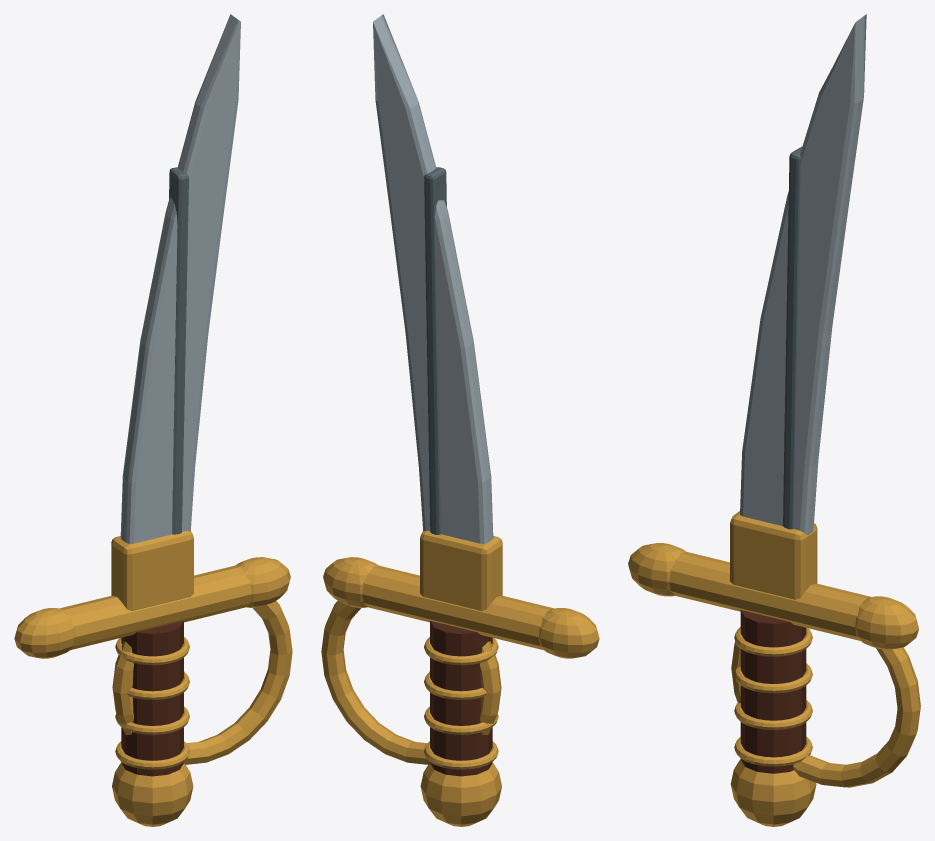
Rendered from boarding-cutlass.glb.
3 views of the same model, side by side, from view 1: azimuth 30°, elevation 25°; view 2: azimuth 150°, elevation 25°; view 3: azimuth 330°, elevation 25° (orthographic). The views are drawn at different scales.
Visible parts, largest first — view 1: Swept broad cutlass blade, Cross guard, Leather grip, Knuckle bow, Reinforced ricasso, Blade fuller groove, Pommel, Quillon R, Quillon L, Grip wire -0.08, Grip wire 0.16, Grip wire 0.0 (+1 smaller); view 2: Swept broad cutlass blade, Cross guard, Leather grip, Knuckle bow, Reinforced ricasso, Blade fuller groove, Pommel, Quillon R, Quillon L, Grip wire -0.08, Grip wire 0.16, Grip wire 0.0 (+1 smaller); view 3: Swept broad cutlass blade, Leather grip, Cross guard, Reinforced ricasso, Knuckle bow, Blade fuller groove, Pommel, Quillon L, Quillon R, Grip wire 0.16, Grip wire -0.08, Grip wire 0.08 (+1 smaller).
Part boxes in pixels (x1,y1,x2,y2): Swept broad cutlass blade: [120, 14, 240, 543]; Cross guard: [59, 565, 251, 649]; Leather grip: [121, 621, 183, 776]; Knuckle bow: [112, 601, 292, 764]; Reinforced ricasso: [111, 531, 193, 610]; Blade fuller groove: [169, 167, 188, 534]; Pommel: [112, 763, 193, 826]; Quillon R: [14, 608, 74, 658]; Quillon L: [236, 557, 290, 607]; Grip wire -0.08: [115, 741, 189, 769]; Grip wire 0.16: [115, 637, 189, 665]; Grip wire 0.0: [115, 706, 189, 734]; Swept broad cutlass blade: [373, 14, 493, 543]; Cross guard: [362, 565, 554, 649]; Leather grip: [430, 621, 492, 776]; Knuckle bow: [321, 601, 501, 764]; Reinforced ricasso: [420, 531, 502, 610]; Blade fuller groove: [424, 167, 446, 534]; Pommel: [420, 763, 501, 826]; Quillon R: [539, 608, 599, 658]; Quillon L: [323, 557, 377, 607]; Grip wire -0.08: [424, 741, 498, 769]; Grip wire 0.16: [424, 637, 498, 665]; Grip wire 0.0: [424, 706, 498, 734]; Swept broad cutlass blade: [740, 14, 866, 534]; Leather grip: [740, 610, 806, 773]; Cross guard: [669, 551, 870, 640]; Reinforced ricasso: [730, 511, 817, 599]; Knuckle bow: [731, 641, 920, 787]; Blade fuller groove: [783, 146, 801, 529]; Pommel: [730, 759, 816, 826]; Quillon L: [855, 596, 918, 649]; Quillon R: [628, 543, 685, 596]; Grip wire 0.16: [734, 627, 812, 656]; Grip wire -0.08: [734, 736, 812, 766]; Grip wire 0.08: [734, 663, 812, 693].
Size of the model in its own units: 0.66 by 1.8 by 0.17.
